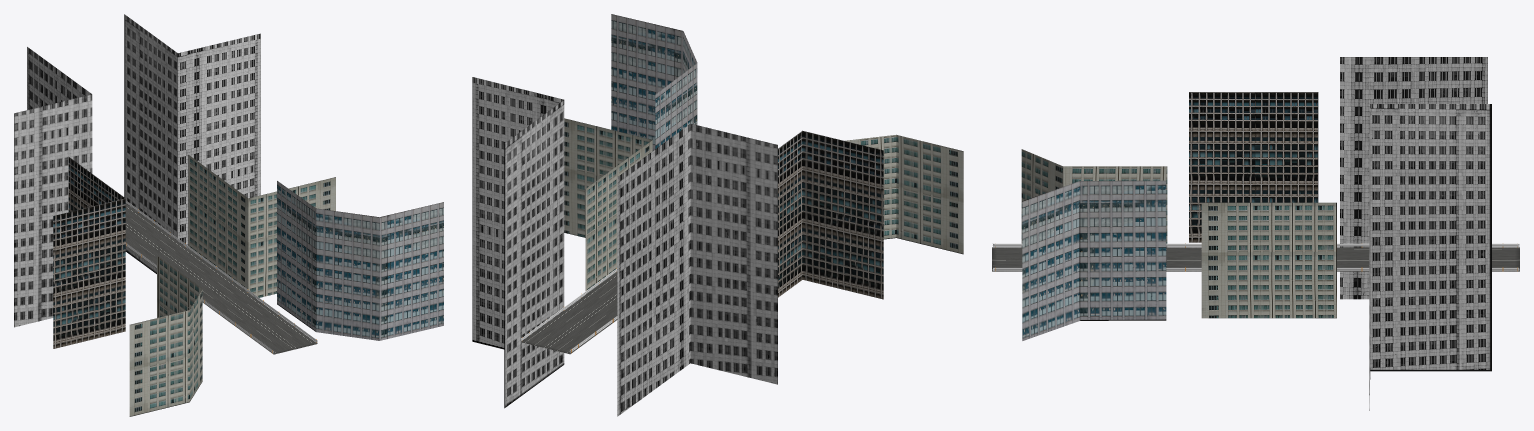
File: Enviroment_assets_1.fbx
The picture shows the model from 3 angles, left to right: view 1: azimuth 30°, elevation 25°; view 2: azimuth 150°, elevation 25°; view 3: azimuth 270°, elevation 25°; orthographic projection. The views are drawn at different scales.
Parts seen in each view (by area): view 1: Cube.019, Road_plane, Barrier_plate; view 2: Cube.019, Road_plane, Barrier_plate; view 3: Cube.019, Road_plane, Barrier_plate.
Boxes of the visible parts, left/top/right/bottom form: Cube.019: left=14, top=14, right=443, bottom=416; Road_plane: left=125, top=203, right=317, bottom=354; Barrier_plate: left=125, top=200, right=317, bottom=353; Cube.019: left=472, top=14, right=963, bottom=416; Road_plane: left=521, top=272, right=617, bottom=354; Barrier_plate: left=521, top=268, right=617, bottom=352; Cube.019: left=1021, top=57, right=1491, bottom=410; Road_plane: left=992, top=247, right=1519, bottom=271; Barrier_plate: left=993, top=243, right=1519, bottom=270.
Bounding box in the file's own units: 23461 × 16734 × 29930.
